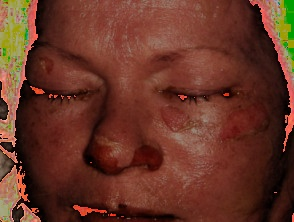SJS-TEN: (4, 0, 294, 222)
